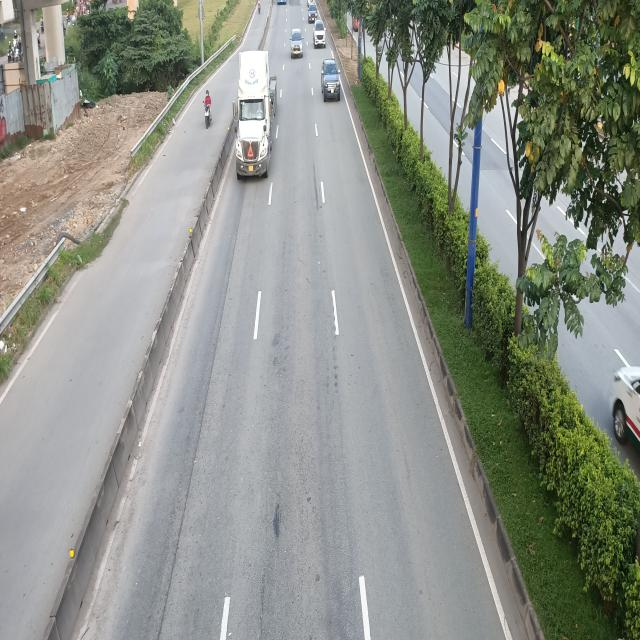car: (320, 57, 340, 100), (289, 28, 303, 58), (312, 20, 326, 48)
container: (230, 48, 276, 176)
